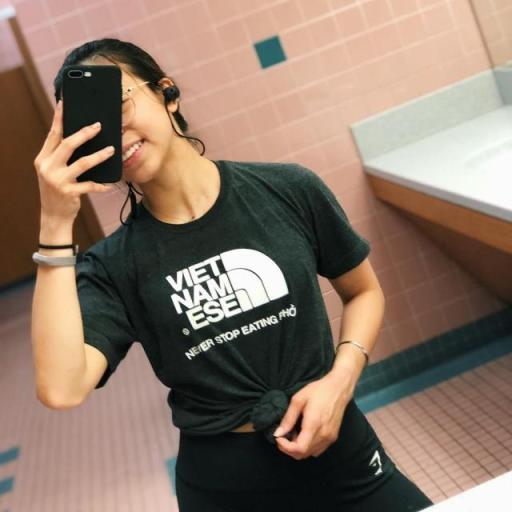The North Face: (219, 246, 296, 313)
